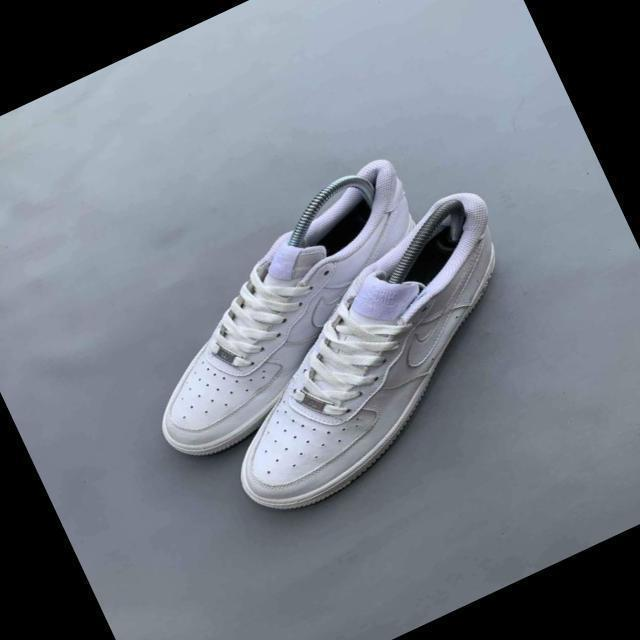nike fake air force: (164, 168, 600, 532), (94, 151, 476, 472)
